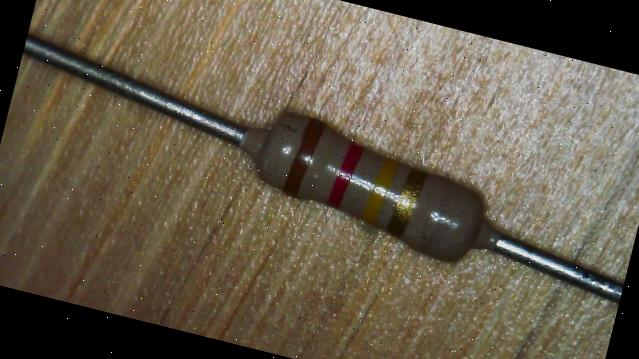brown: (282, 113, 324, 200)
gold: (386, 165, 426, 240)
red: (324, 136, 361, 212)
resistor: (219, 76, 528, 305)
yellow: (362, 152, 397, 224)
